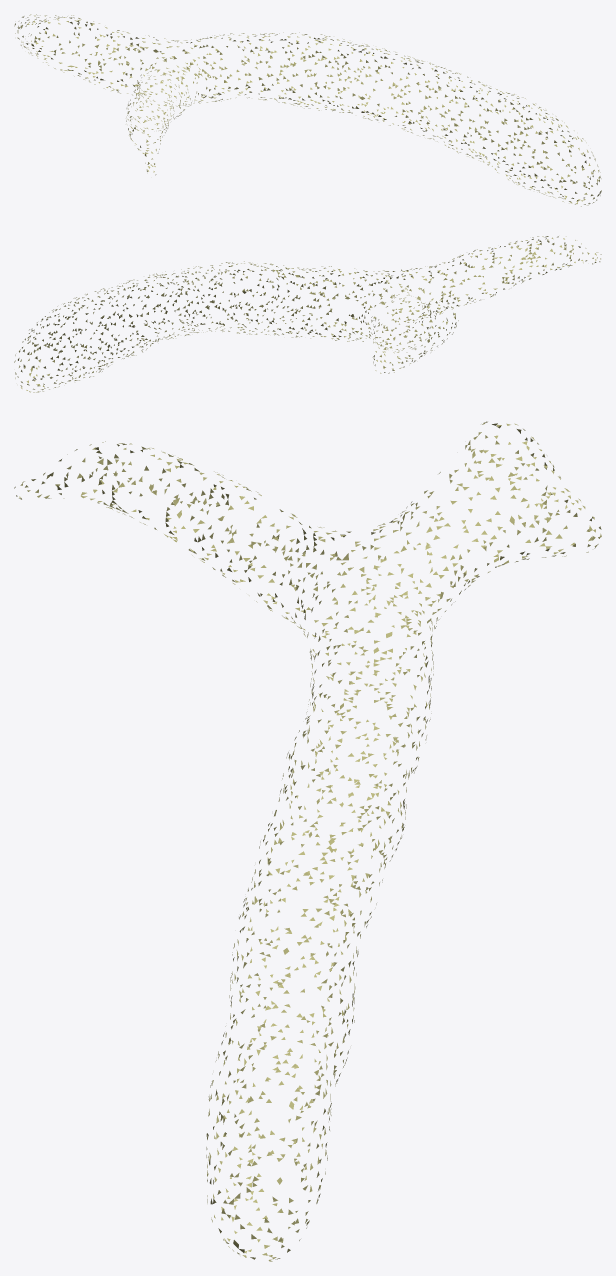
The model's file is morph_009.glb.
3 renders of one model, top to bottom at view 1: azimuth 30°, elevation 25°; view 2: azimuth 150°, elevation 25°; view 3: azimuth 270°, elevation 25°, orthographic. The views are drawn at different scales.
Size of the model in its own units: 119 by 55.67 by 68.37.
